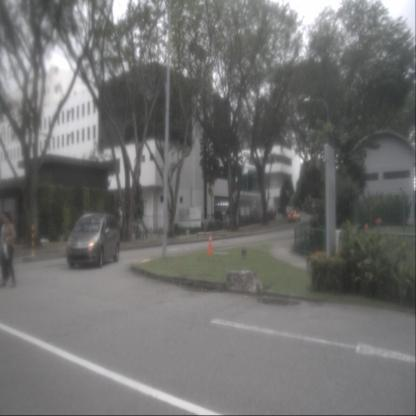cone: (206, 235, 214, 258)
